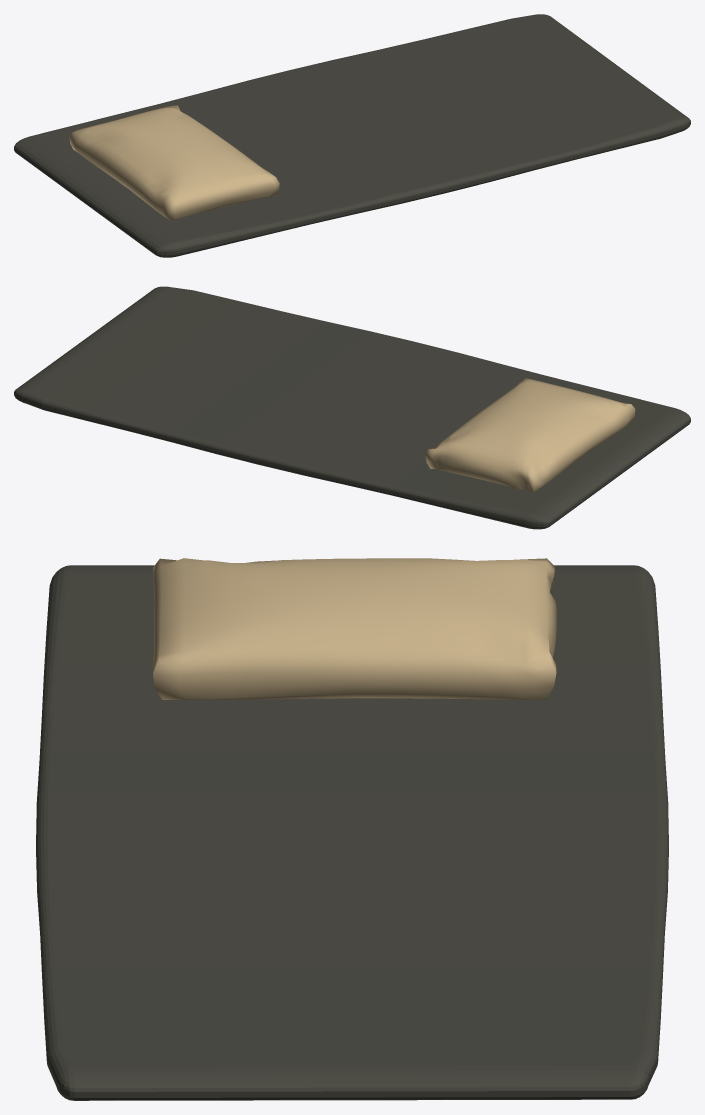
File: Sleeping_Mat_00.fbx
3 views of the same model, one above another, from view 1: azimuth 30°, elevation 25°; view 2: azimuth 150°, elevation 25°; view 3: azimuth 270°, elevation 25° (orthographic). The views are drawn at different scales.
Visible parts, largest first — view 1: Plane.001, Plane.002; view 2: Plane.001, Plane.002; view 3: Plane.001, Plane.002.
Part boxes in pixels (box(x1,y1,x2,y2)): Plane.001: box(14, 14, 690, 257); Plane.002: box(69, 105, 279, 220); Plane.001: box(14, 286, 690, 529); Plane.002: box(425, 378, 635, 492); Plane.001: box(36, 565, 668, 1100); Plane.002: box(152, 558, 556, 699).
Size of the model in its own units: 632 by 51.57 by 323.
